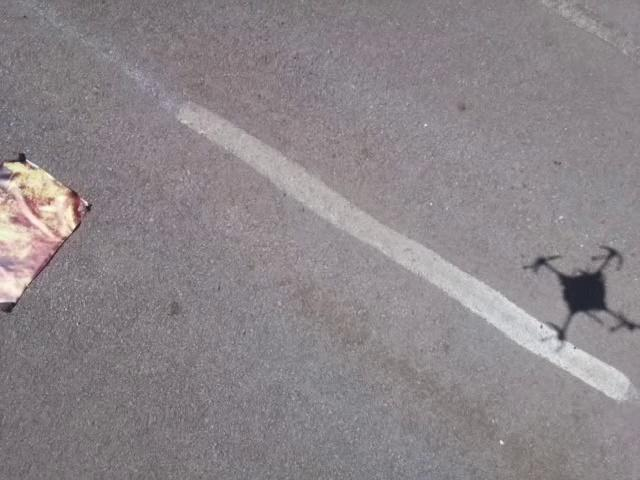fire-poster: (0, 149, 92, 315)
